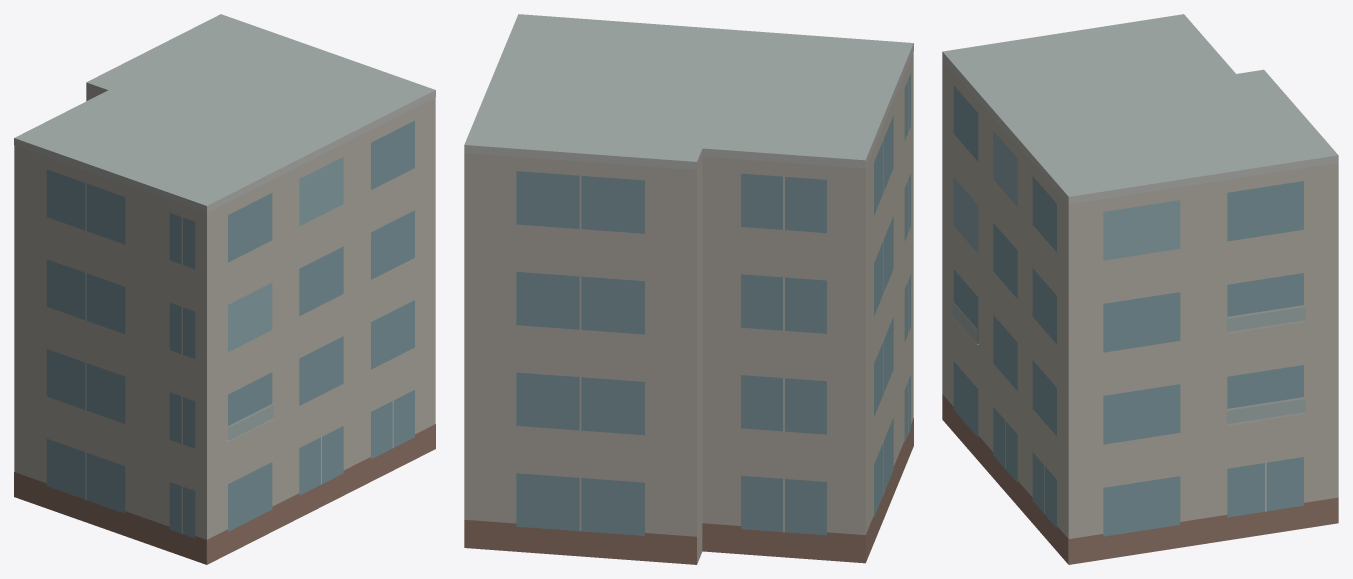
File: residential-c54261de-f0d4-4ad3-a700-43ef76f2c99e.glb
3 views of the same model, side by side, from view 1: azimuth 30°, elevation 25°; view 2: azimuth 150°, elevation 25°; view 3: azimuth 270°, elevation 25° (orthographic). The views are drawn at different scales.
Parts seen in each view (by area): view 1: residential-c54261de-f0d4-4ad3-a700-43ef76f2c99e.tmp; view 2: residential-c54261de-f0d4-4ad3-a700-43ef76f2c99e.tmp; view 3: residential-c54261de-f0d4-4ad3-a700-43ef76f2c99e.tmp.
Part boxes in pixels (x1=…): residential-c54261de-f0d4-4ad3-a700-43ef76f2c99e.tmp: x1=14, y1=14, x2=435, y2=564; residential-c54261de-f0d4-4ad3-a700-43ef76f2c99e.tmp: x1=464, y1=14, x2=913, y2=564; residential-c54261de-f0d4-4ad3-a700-43ef76f2c99e.tmp: x1=942, y1=14, x2=1338, y2=564.
Size of the model in its own units: 13.01 by 12.2 by 11.91.
